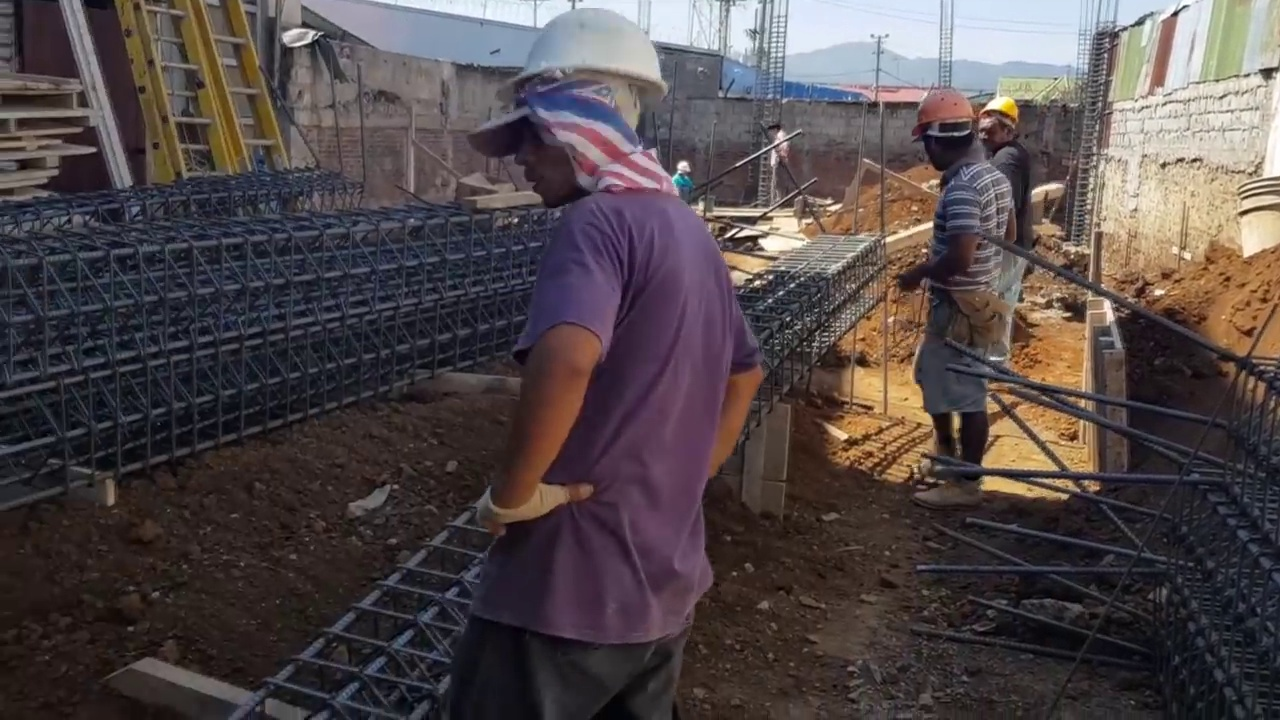helmet: (495, 16, 664, 104), (917, 87, 975, 132), (977, 96, 1020, 124), (677, 162, 692, 172)
helmet-off: (767, 120, 781, 138)
helmet-on: (495, 13, 659, 219), (910, 80, 974, 166), (976, 96, 1021, 155), (675, 161, 692, 177)
person: (426, 28, 762, 709), (908, 86, 1019, 511), (976, 95, 1038, 242), (766, 120, 790, 210), (672, 160, 696, 191)
